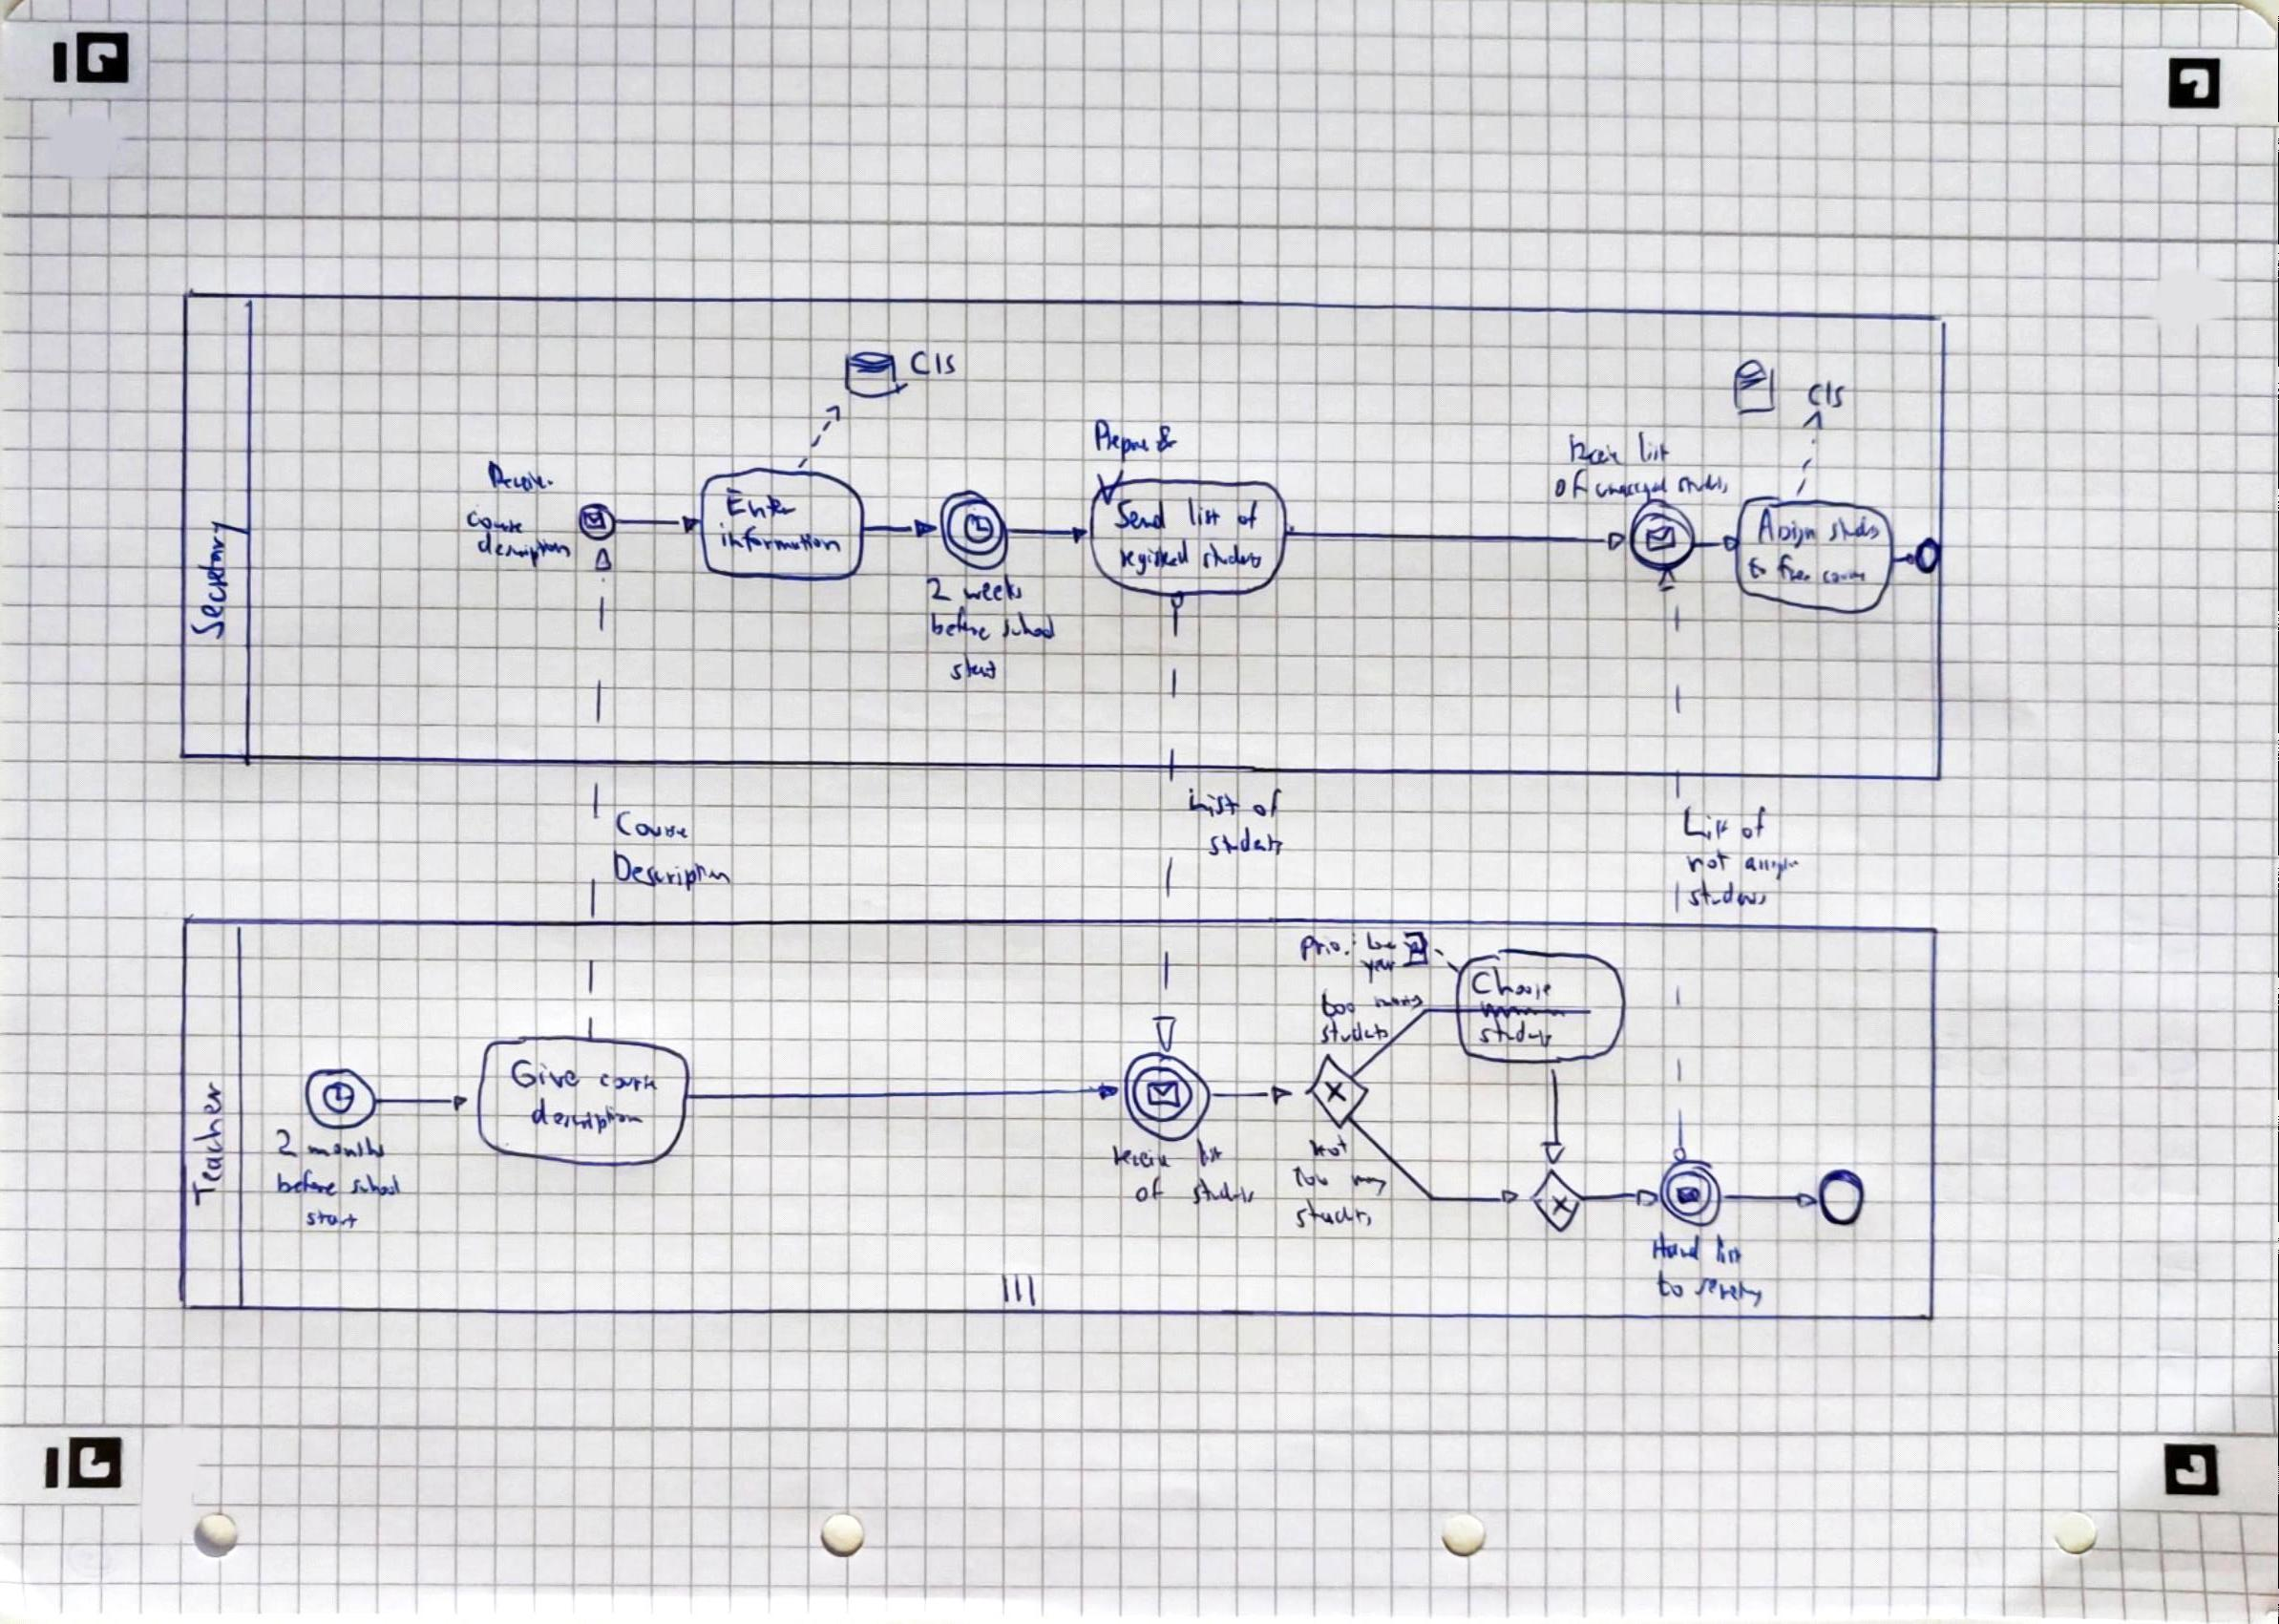&: (1153, 421, 1179, 453)
2: (271, 1126, 297, 1163), (924, 574, 952, 606)
Assign: (1755, 506, 1821, 550)
CIS: (908, 347, 960, 377), (1805, 378, 1849, 410)
Choose: (1470, 967, 1554, 1001)
Course: (612, 809, 691, 837), (465, 510, 530, 530)
Description: (612, 850, 734, 892)
Enter: (724, 488, 797, 521)
Give: (509, 1059, 584, 1089)
Hand: (1648, 1231, 1705, 1261)
III: (999, 1271, 1043, 1307)
List: (1680, 803, 1734, 844), (1186, 785, 1242, 821)
Prepare: (1093, 415, 1154, 468)
Receive: (486, 459, 557, 495)
Secretary: (190, 519, 249, 642)
Send: (1114, 496, 1170, 534)
Students: (1318, 1020, 1394, 1046)
Teacher: (190, 1081, 230, 1210)
accepted: (1741, 847, 1804, 883)
before: (929, 604, 995, 640), (274, 1166, 342, 1195)
changed: (1593, 480, 1673, 504)
course: (1820, 568, 1872, 588)
cousin: (596, 1072, 662, 1094)
description: (527, 1097, 646, 1133), (473, 530, 577, 571)
free: (1773, 549, 1812, 585)
har: (1565, 432, 1626, 468)
information: (716, 523, 846, 552)
list: (1635, 430, 1673, 464), (1185, 494, 1224, 527), (1710, 1233, 1745, 1265), (1194, 1134, 1226, 1168)
lower: (1365, 928, 1399, 953)
many: (1372, 992, 1426, 1012), (1349, 1173, 1390, 1201)
months: (307, 1134, 389, 1160)
not: (1307, 1132, 1353, 1163), (1685, 849, 1734, 875)
of: (1552, 467, 1592, 501), (1740, 803, 1770, 843), (1252, 785, 1284, 820), (1133, 1171, 1169, 1204), (1235, 497, 1264, 531)
prio.: (1296, 936, 1354, 964)
receive: (1108, 1147, 1176, 1169)
registered: (1116, 539, 1192, 577)
school: (999, 610, 1062, 641), (346, 1172, 405, 1198)
secretary: (1695, 1264, 1768, 1303)
start: (950, 653, 1001, 684), (304, 1208, 362, 1232)
students: (1290, 1197, 1378, 1230), (1205, 823, 1286, 857), (1685, 878, 1773, 909), (1476, 1017, 1556, 1049), (1189, 1177, 1259, 1207), (1198, 539, 1267, 570), (1826, 513, 1884, 545), (1677, 474, 1733, 496)
to: (1655, 1271, 1687, 1305), (1746, 552, 1769, 580)
too: (1290, 1162, 1334, 1192), (1319, 990, 1361, 1020)
weeks: (960, 573, 1026, 603)
year: (1361, 955, 1399, 984)
